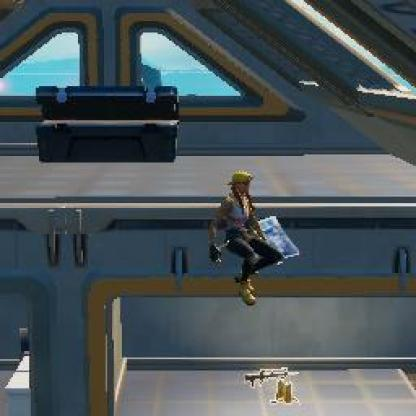dumpster: (210, 171, 284, 307)
